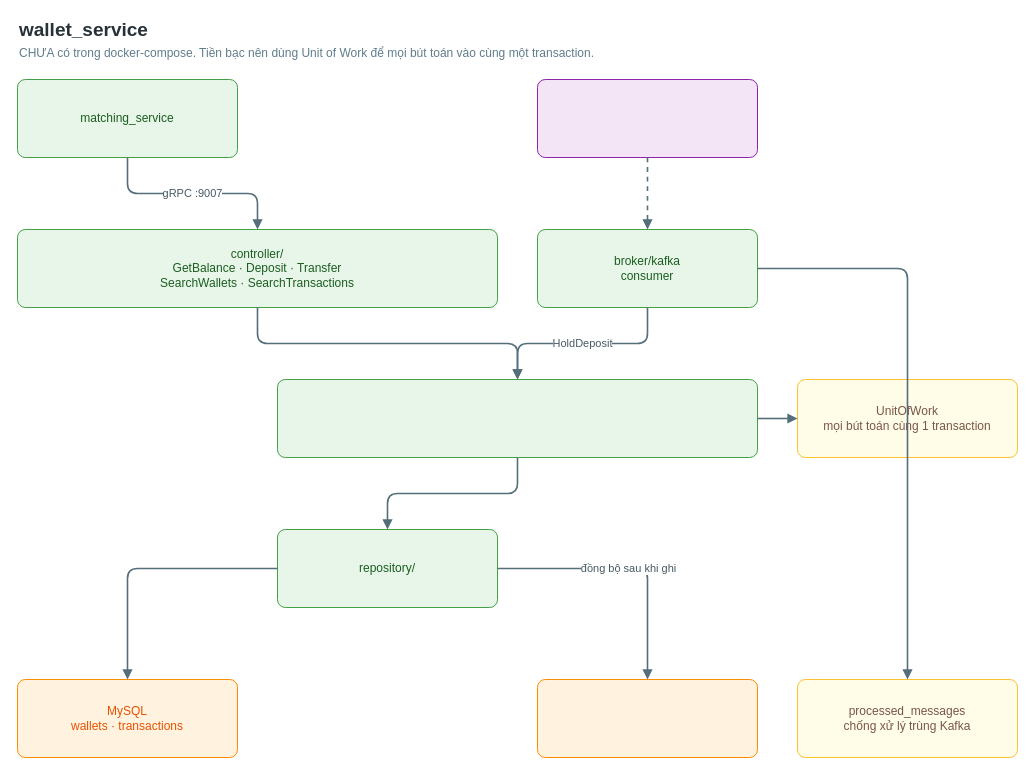
Some shapes in this 1035 by 775 pixel diagram are drawn without their labels. Here are the shapes that lost their labels. From the top down, the centre of each, then its label:
At (647,118): "Kafka wallet.hold_deposit".
At (517,418): "biz/ HoldDeposit · ReleaseAndPay TransferMoney".
At (647,718): "Elasticsearch tra cứu giao dịch".
